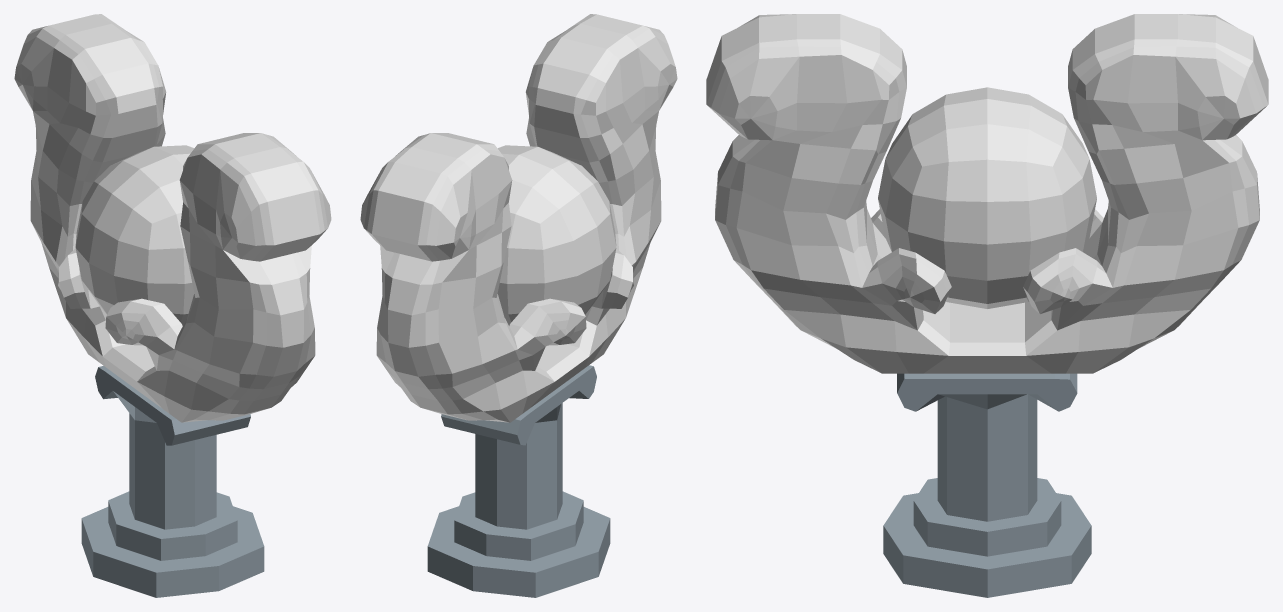
File: new_oxygen_building_.fbx
3 views of the same model, side by side, from view 1: azimuth 30°, elevation 25°; view 2: azimuth 150°, elevation 25°; view 3: azimuth 270°, elevation 25° (orthographic). The views are drawn at different scales.
Visible parts, largest first — view 1: Cube.002, Cube, Cube.001; view 2: Cube.002, Cube, Cube.001; view 3: Cube.002, Cube.001, Cube.
Part boxes in pixels (left/top/right/bottom): Cube.002: left=14, top=14, right=331, bottom=422; Cube: left=81, top=366, right=264, bottom=597; Cube.001: left=75, top=145, right=194, bottom=325; Cube.002: left=360, top=14, right=677, bottom=422; Cube: left=427, top=365, right=610, bottom=597; Cube.001: left=497, top=145, right=616, bottom=325; Cube.002: left=706, top=14, right=1268, bottom=373; Cube.001: left=878, top=87, right=1096, bottom=308; Cube: left=883, top=373, right=1091, bottom=597.
Bounding box in the file's own units: 1129 × 1168 × 474.
